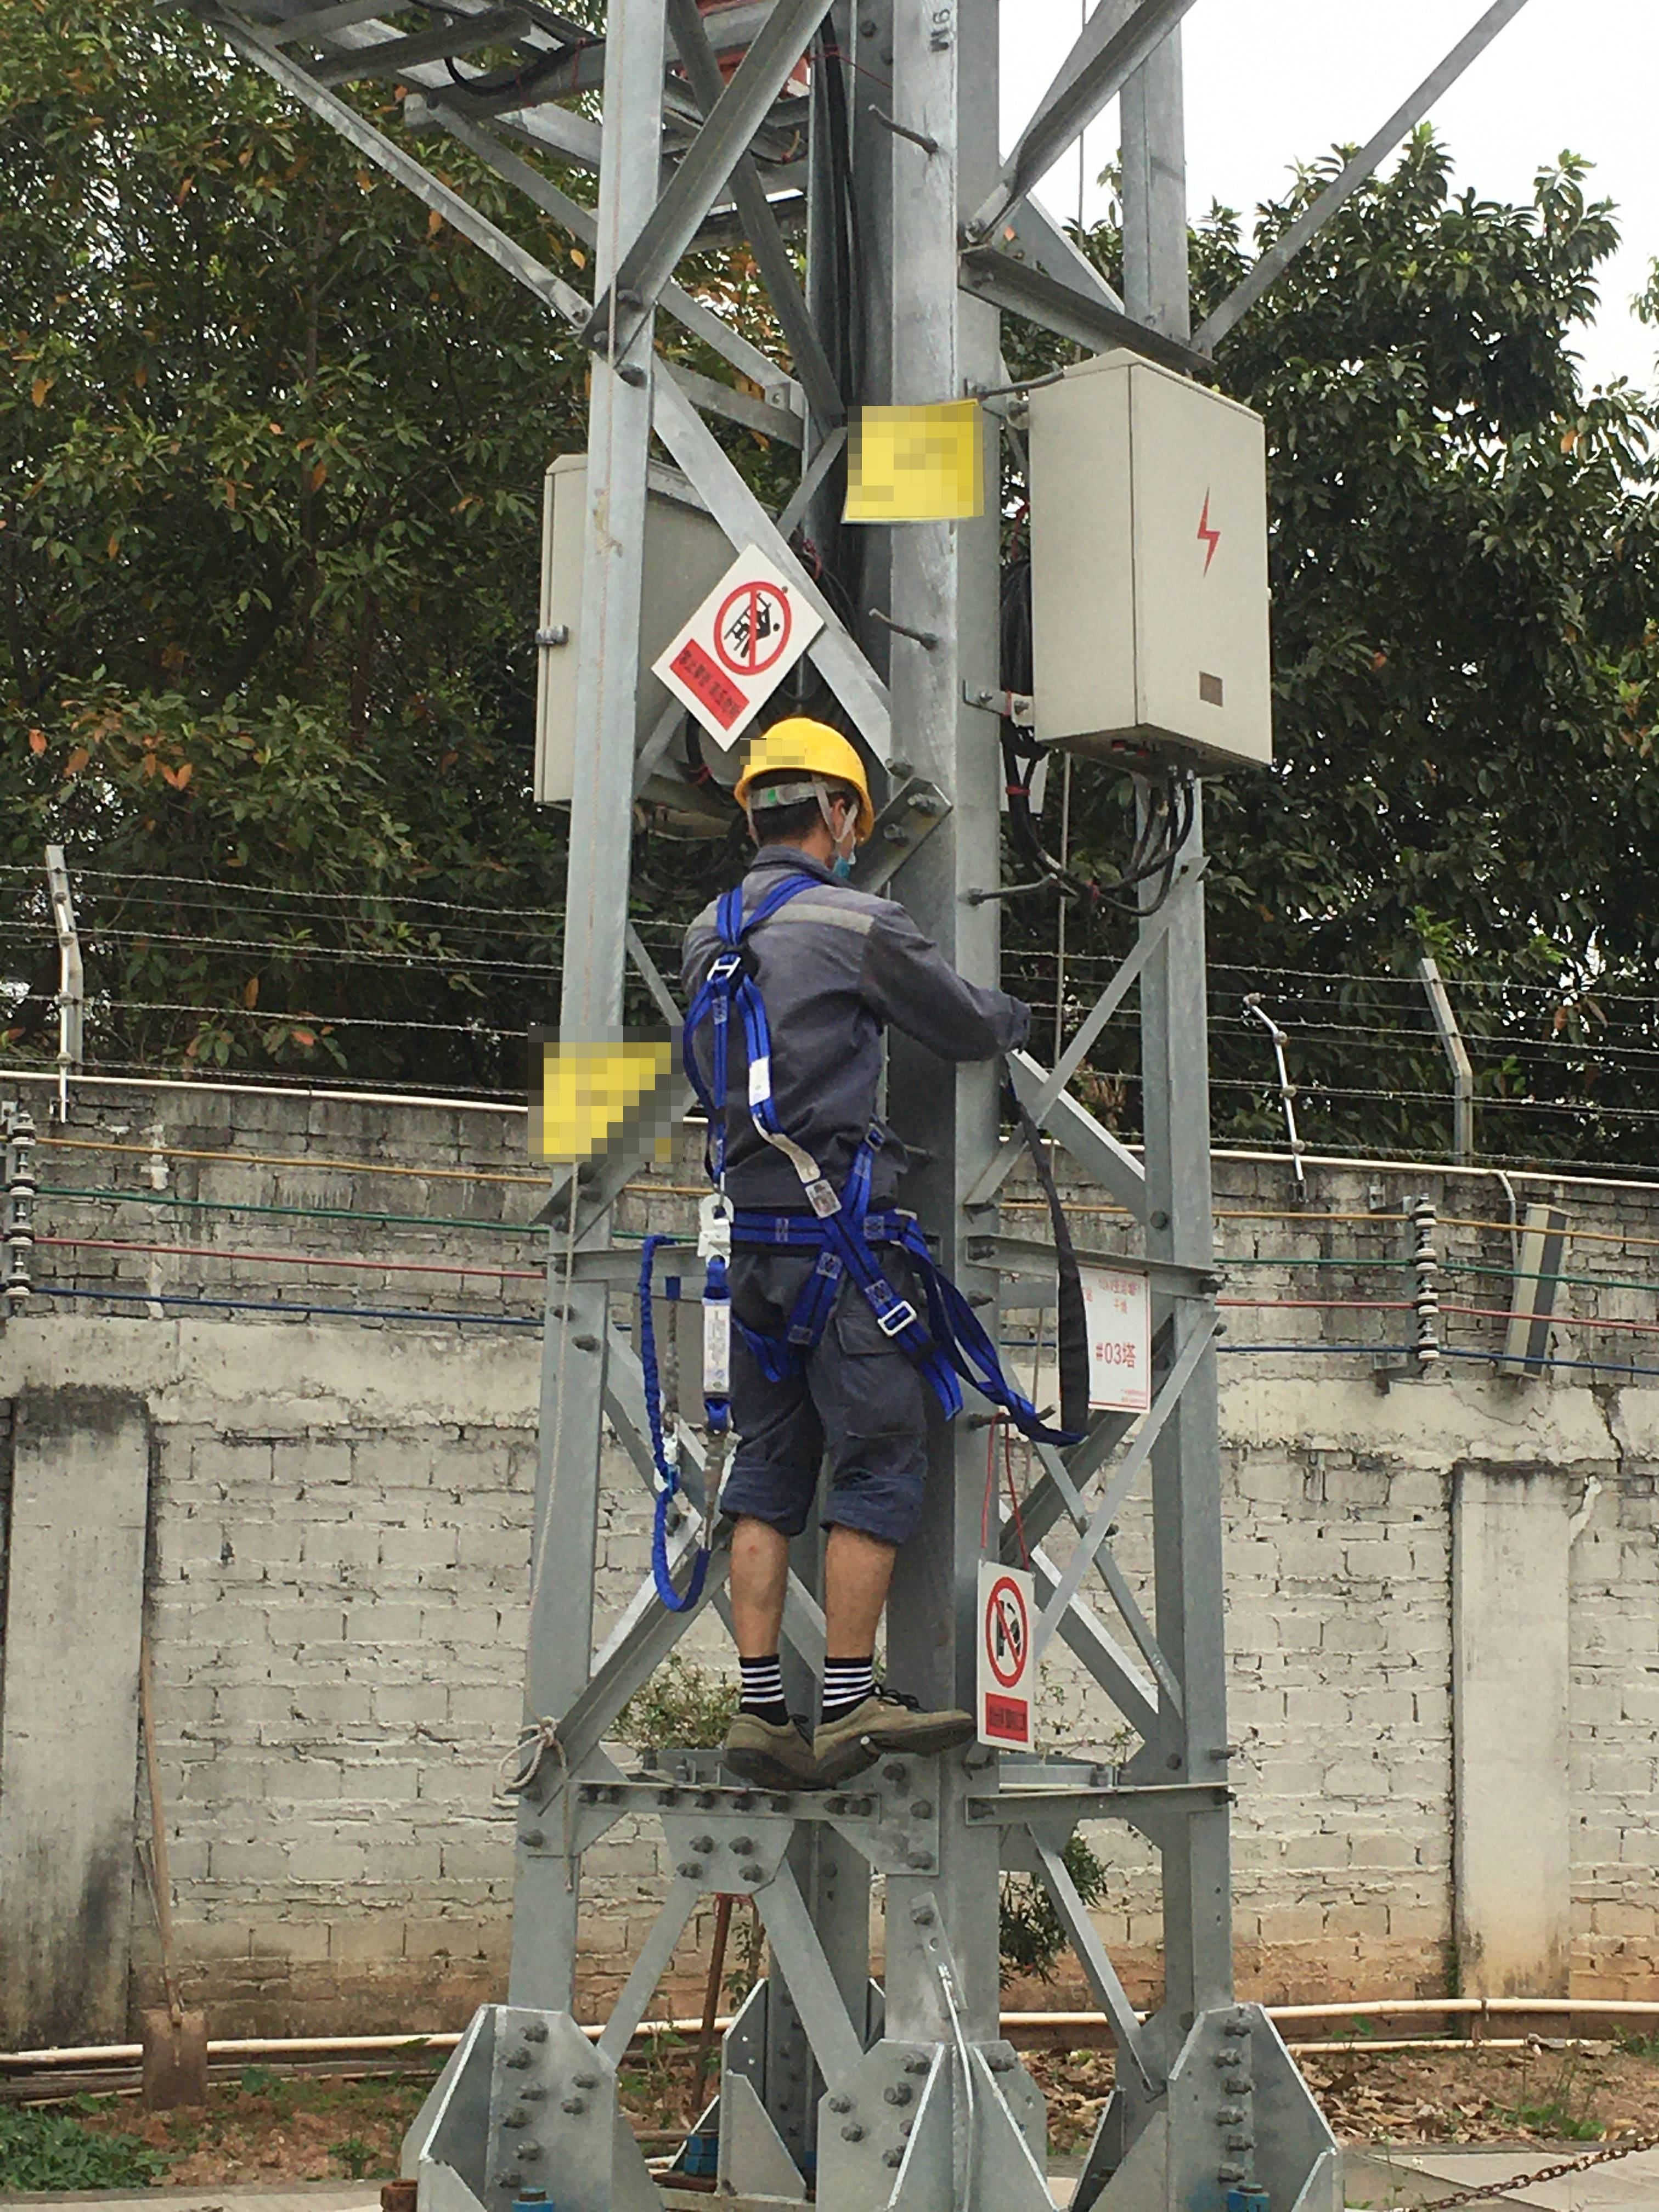downsuit: (697, 1219, 938, 1540)
upsuit: (685, 874, 945, 1212)
wrongbottom: (714, 1465, 798, 1665), (821, 1472, 903, 1658)
